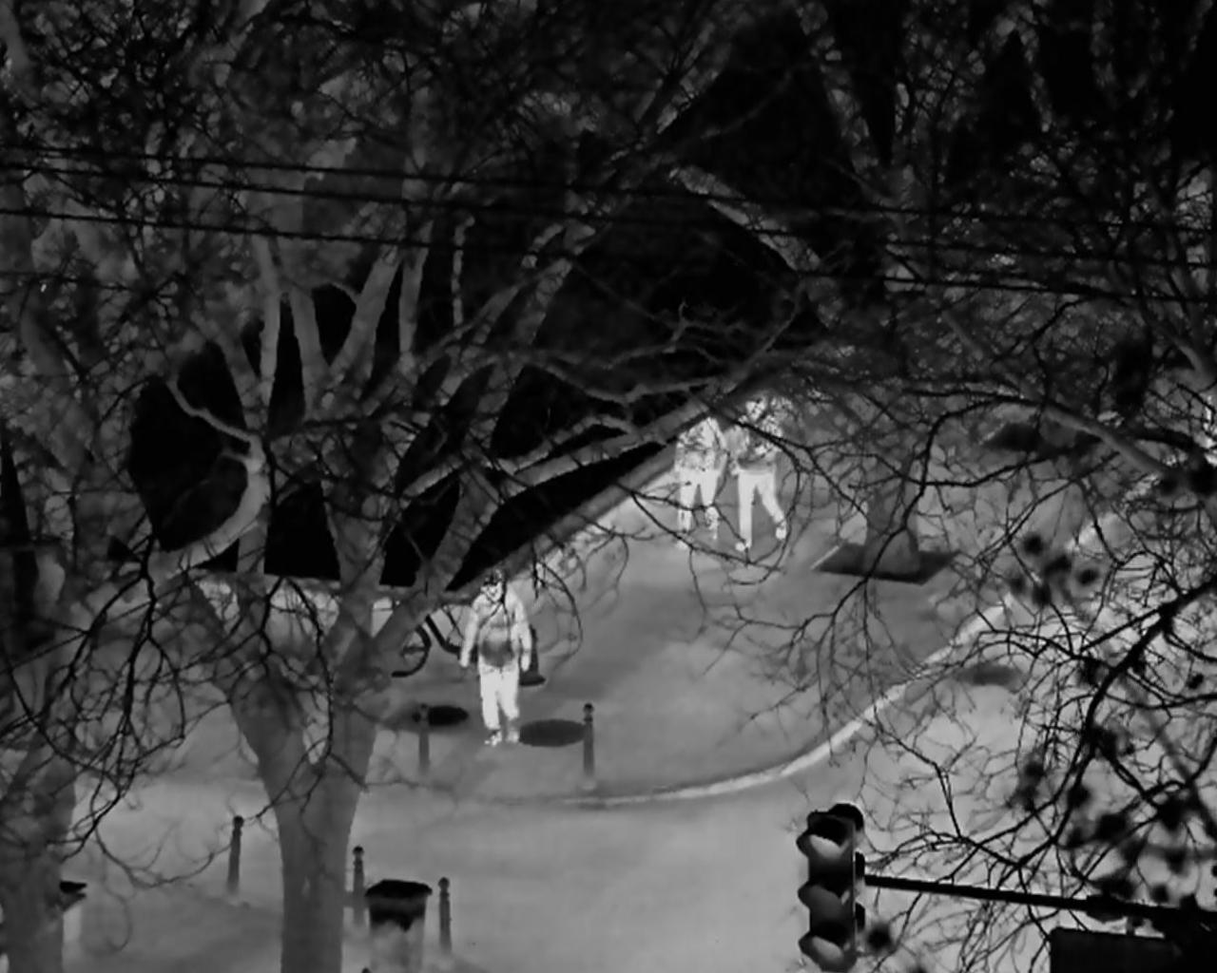person: (458, 569, 532, 747), (728, 391, 791, 553), (671, 417, 727, 538)
